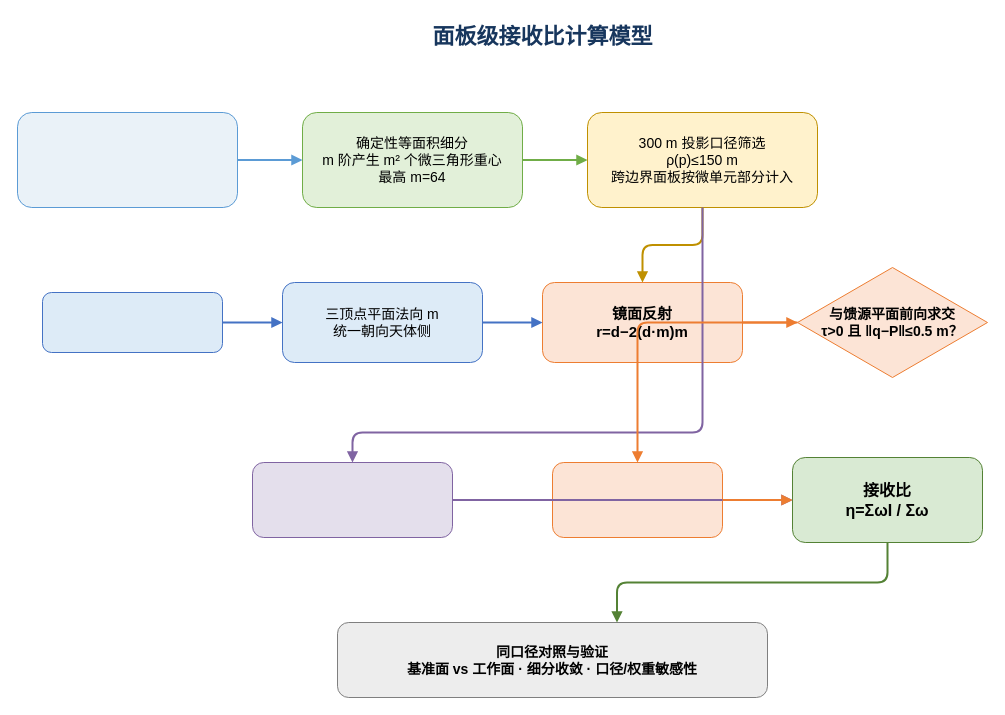
The diagram is 1005 pixels wide and 715 high, and some of its shapes have lost their labels. The shapes that lost their labels are listed below. From the top down, each one's box as (x1, y1, x2, y2) in pixels, then its label:
(16, 112, 238, 208): 表面几何 基准球面 / 调节工作面 共享 4300 块三角面板拓扑
(42, 292, 222, 352): 平行入射方向 d=k
(252, 462, 452, 538): 微单元能量权重 ω=A·|d·m|
(552, 462, 722, 538): 命中指示量 I∈{0,1}
